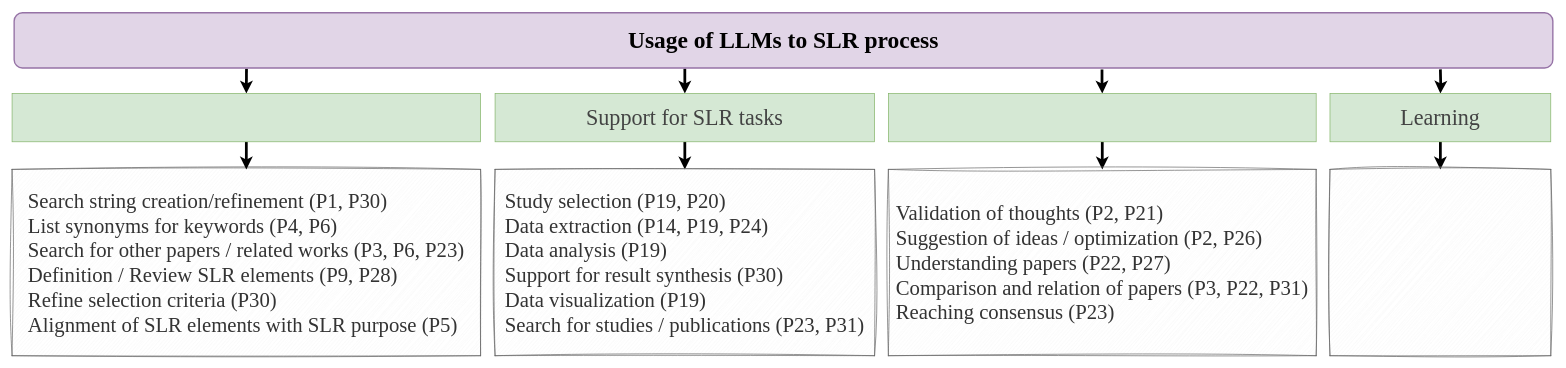
Image size: 1566x368. Some labels were removed from this diagram. Each missing label, with the centre of its shape:
Design/Refinement of SLR: point (246, 117)
Learning concepts (P12): point (1440, 262)
Support for reasoning: point (1102, 117)
